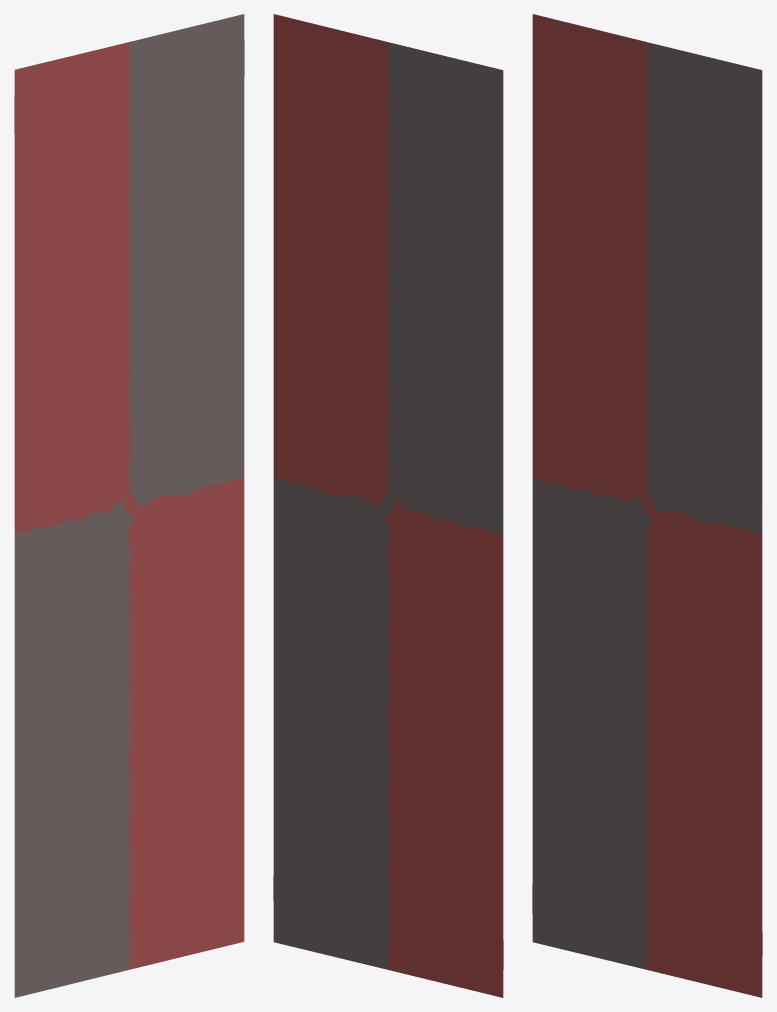
Rendered from warping-rectangle-12.377-3.2024-294.glb.
The picture shows the model from 3 angles, left to right: view 1: azimuth 30°, elevation 25°; view 2: azimuth 150°, elevation 25°; view 3: azimuth 330°, elevation 25°; orthographic projection.
Parts seen in each view (by area): view 1: undeformed cross-section, cross-section with warping; view 2: undeformed cross-section, cross-section with warping; view 3: undeformed cross-section, cross-section with warping.
Part boxes in pixels (bbox=[...]): undeformed cross-section: bbox=[14, 14, 244, 997]; cross-section with warping: bbox=[14, 14, 244, 997]; undeformed cross-section: bbox=[273, 14, 503, 997]; cross-section with warping: bbox=[273, 14, 503, 969]; undeformed cross-section: bbox=[532, 14, 762, 997]; cross-section with warping: bbox=[532, 14, 762, 969].
Size of the model in its own units: 0.0032 by 0.0124 by 1.49e-05.
